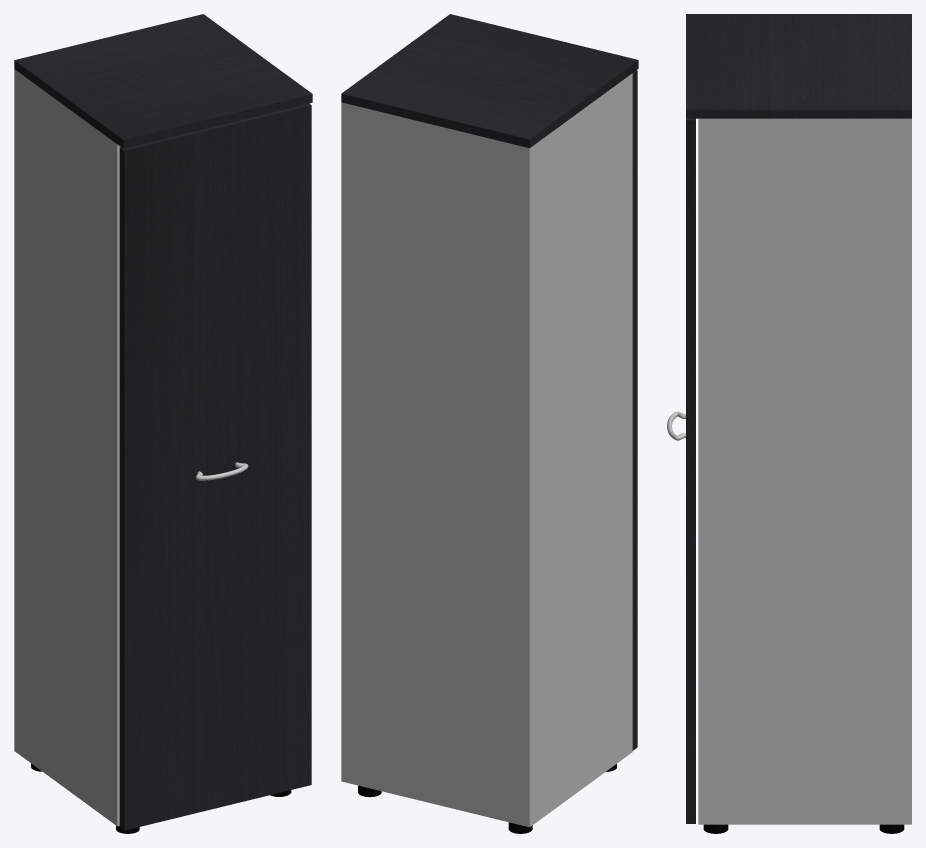
File: sweethome3d-lucapresidente-bookcase-45x160-19.glb
The picture shows the model from 3 angles, left to right: view 1: azimuth 30°, elevation 25°; view 2: azimuth 150°, elevation 25°; view 3: azimuth 270°, elevation 25°; orthographic projection. The views are drawn at different scales.
Visible parts, largest first — view 1: Box56_2, Box58_8, Box57_3; view 2: Box58_8, Box57_3, Box56_2; view 3: Box58_8, Box57_3, Box56_2.
Part boxes in pixels (bbox=[...]): Box56_2: bbox=[119, 103, 311, 830]; Box58_8: bbox=[14, 69, 120, 826]; Box57_3: bbox=[14, 14, 312, 148]; Box58_8: bbox=[341, 73, 632, 827]; Box57_3: bbox=[341, 14, 638, 148]; Box56_2: bbox=[632, 70, 637, 750]; Box58_8: bbox=[698, 118, 911, 824]; Box57_3: bbox=[686, 14, 911, 118]; Box56_2: bbox=[686, 118, 695, 823].
Size of the model in its own units: 45 by 160 by 48.75.
Materials: 3 (1 with a texture image).
